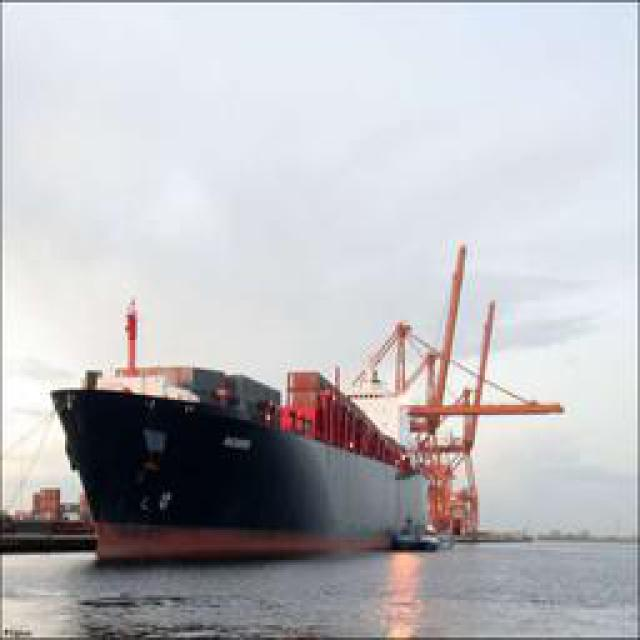Ship: (39, 325, 437, 563)
